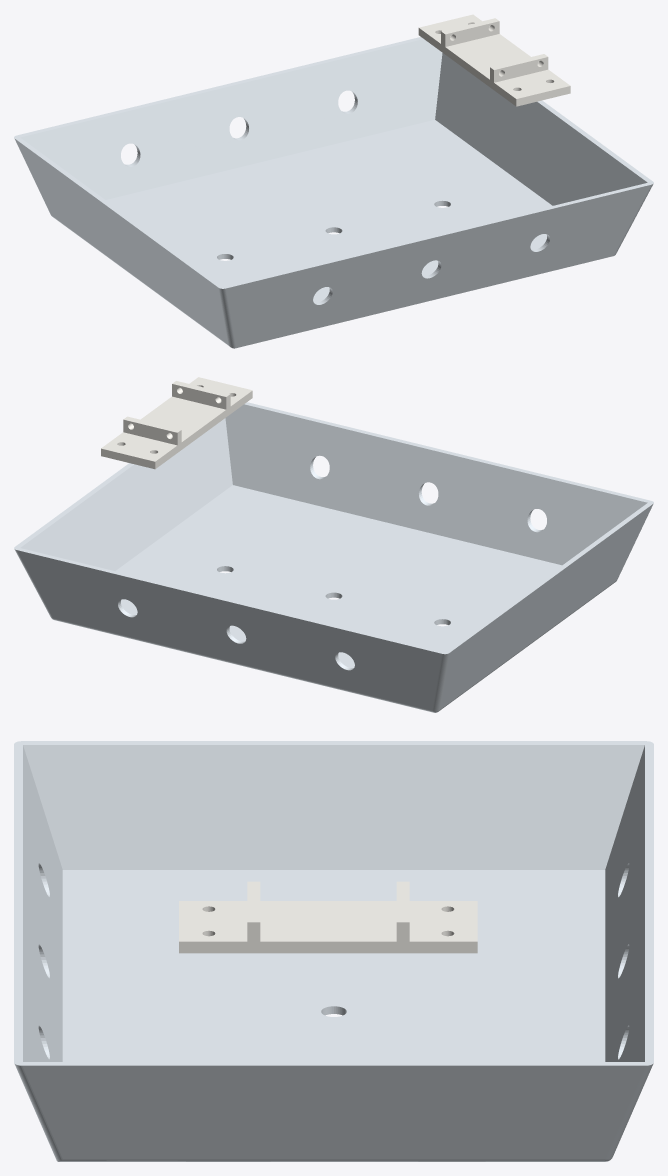
3 views of the same model, one above another, from view 1: azimuth 30°, elevation 25°; view 2: azimuth 150°, elevation 25°; view 3: azimuth 270°, elevation 25° (orthographic). The views are drawn at different scales.
Visible parts, largest first — view 1: base_link_-_body_under-1, base_link_-_LRF_set-1_dynamixel_stay-1; view 2: base_link_-_body_under-1, base_link_-_LRF_set-1_dynamixel_stay-1; view 3: base_link_-_body_under-1, base_link_-_LRF_set-1_dynamixel_stay-1.
Boxes of the visible parts, x1=… form: base_link_-_body_under-1: x1=14, y1=37, x2=653, y2=348; base_link_-_LRF_set-1_dynamixel_stay-1: x1=418, y1=14, x2=570, y2=106; base_link_-_body_under-1: x1=14, y1=402, x2=653, y2=712; base_link_-_LRF_set-1_dynamixel_stay-1: x1=101, y1=377, x2=252, y2=469; base_link_-_body_under-1: x1=14, y1=741, x2=653, y2=1161; base_link_-_LRF_set-1_dynamixel_stay-1: x1=179, y1=881, x2=477, y2=953.
Bounding box in the file's own units: 0.18 × 0.15 × 0.0611.
2 materials, 2 textured.
